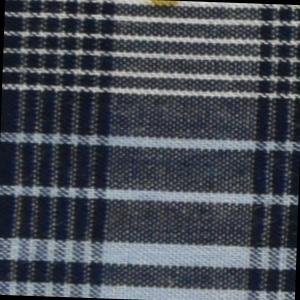Oil Stain: (148, 1, 183, 20)
